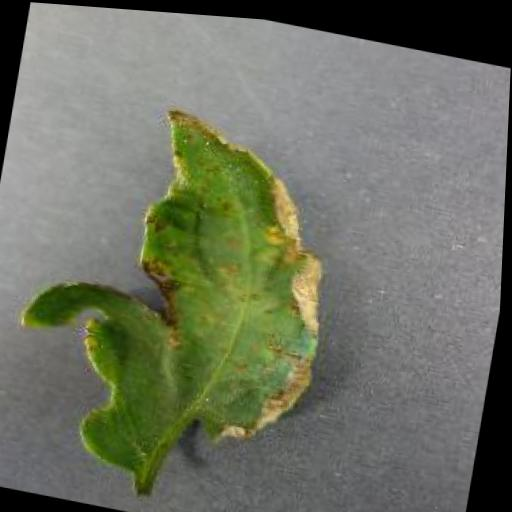Bacterial Spot: (0, 75, 360, 502)
